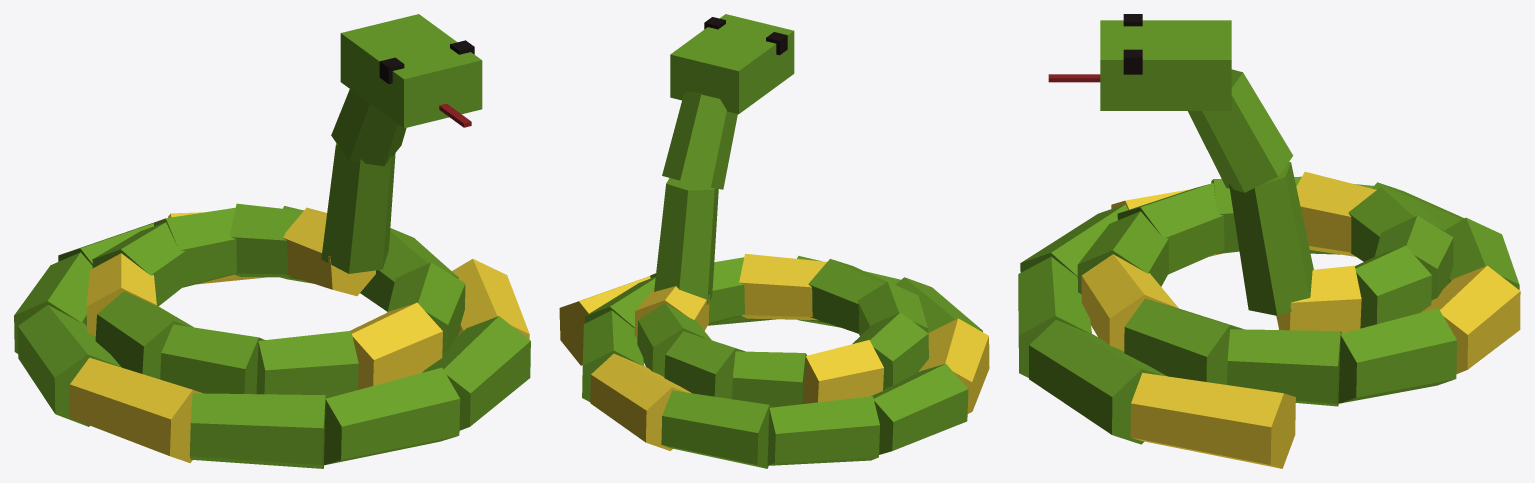
File: snake.glb
3 views of the same model, side by side, from view 1: azimuth 30°, elevation 25°; view 2: azimuth 150°, elevation 25°; view 3: azimuth 270°, elevation 25° (orthographic). The views are drawn at different scales.
Visible parts, largest first — view 1: snake_green, snake_yellow, Head_snake_green, Head_eye; view 2: snake_green, snake_yellow, Head_snake_green, Head_eye; view 3: snake_green, snake_yellow, Head_snake_green, Head_eye.
Boxes of the visible parts, left/top/right/bottom form: snake_green: left=14, top=203, right=530, bottom=468; snake_yellow: left=68, top=207, right=529, bottom=463; Head_snake_green: left=321, top=14, right=482, bottom=273; Head_eye: left=379, top=40, right=474, bottom=83; snake_green: left=582, top=255, right=982, bottom=468; snake_yellow: left=559, top=253, right=989, bottom=450; Head_snake_green: left=654, top=14, right=794, bottom=305; Head_eye: left=704, top=17, right=787, bottom=55; snake_green: left=1018, top=176, right=1519, bottom=444; snake_yellow: left=1081, top=171, right=1520, bottom=468; Head_snake_green: left=1100, top=20, right=1313, bottom=315; Head_eye: left=1123, top=14, right=1142, bottom=74.
Bounding box in the file's own units: 1.18 × 0.88 × 1.07.
